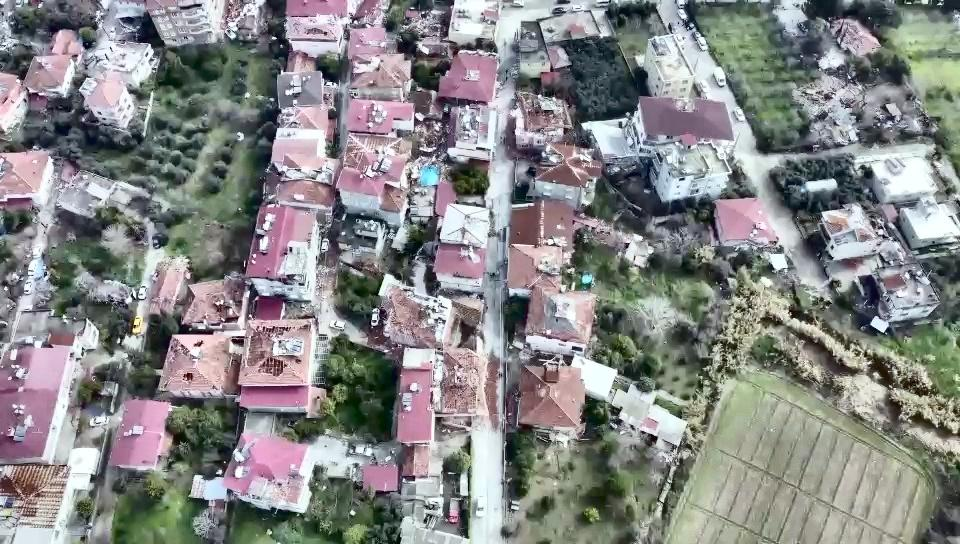kapali: (472, 339, 503, 441)
